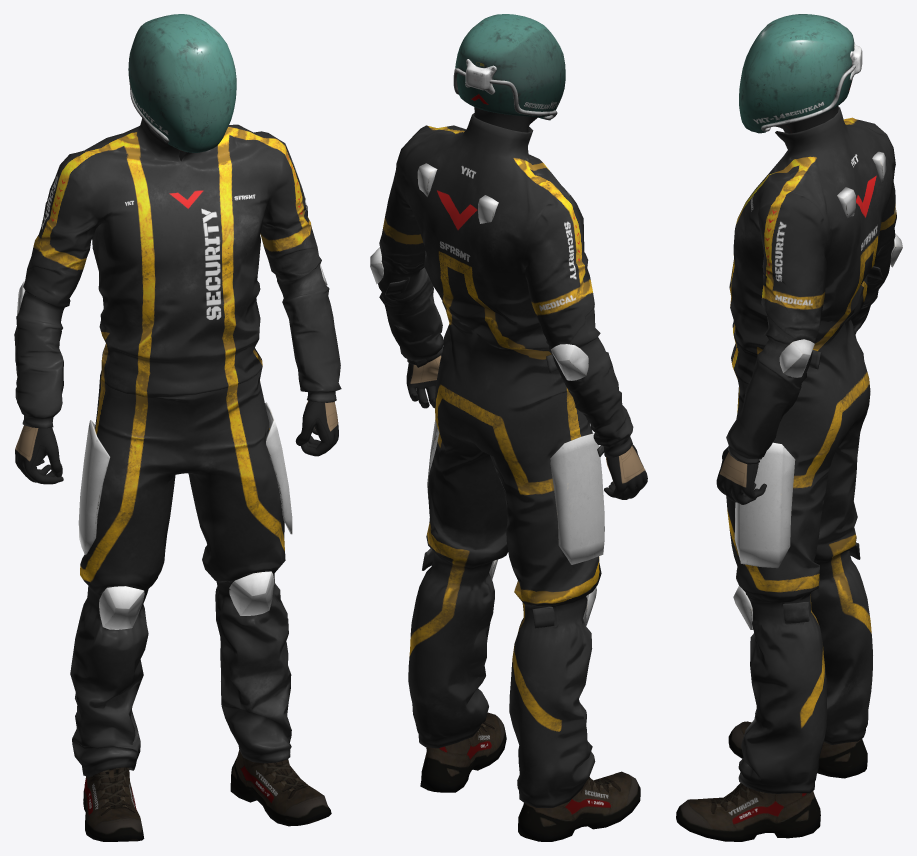
Rendered from Stay Pose.fbx.
3 renders of one model, left to right at view 1: azimuth 30°, elevation 25°; view 2: azimuth 150°, elevation 25°; view 3: azimuth 270°, elevation 25°, orthographic.
Parts seen in each view (by area): view 1: Low Poly Jumpsuit, Low Poly Headset, Boots Low Poly, DETAILS Low Poly, Genesis8Male.Shape; view 2: Low Poly Jumpsuit, Low Poly Headset, DETAILS Low Poly, Boots Low Poly, Genesis8Male.Shape; view 3: Low Poly Jumpsuit, Low Poly Headset, Boots Low Poly, DETAILS Low Poly, Genesis8Male.Shape.
Boxes of the visible parts, x1,y1,x2,y2 form: Low Poly Jumpsuit: [14, 118, 341, 776]; Low Poly Headset: [128, 14, 236, 152]; Boots Low Poly: [83, 750, 331, 841]; DETAILS Low Poly: [17, 264, 327, 629]; Genesis8Male.Shape: [15, 150, 338, 484]; Low Poly Jumpsuit: [378, 113, 633, 807]; Low Poly Headset: [453, 14, 565, 120]; DETAILS Low Poly: [370, 163, 604, 625]; Boots Low Poly: [420, 712, 640, 841]; Genesis8Male.Shape: [406, 107, 647, 499]; Low Poly Jumpsuit: [726, 106, 896, 793]; Low Poly Headset: [739, 14, 862, 133]; Boots Low Poly: [676, 721, 867, 841]; DETAILS Low Poly: [733, 151, 902, 629]; Genesis8Male.Shape: [716, 106, 838, 504].
Bounding box in the file's own units: 69.41 × 182 × 48.14.
